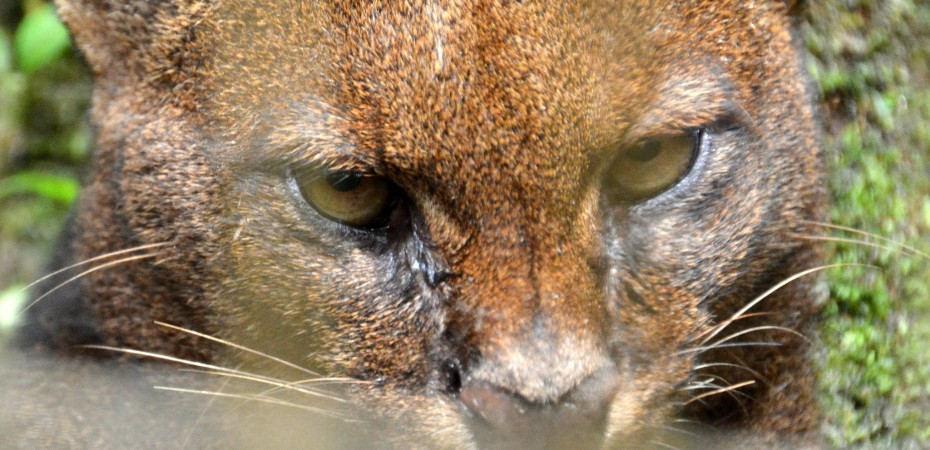Jaguarundi: (54, 6, 846, 425)
